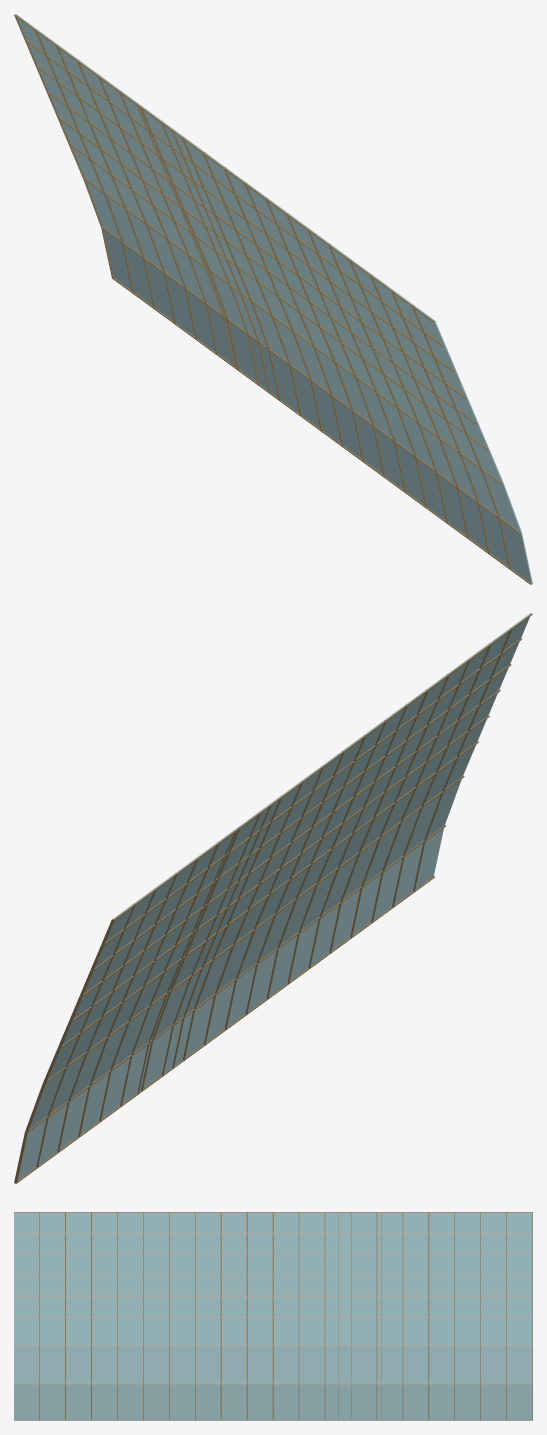
The model's file is G7_Completion_R003_Body_1_03.glb.
3 renders of one model, top to bottom at view 1: azimuth 30°, elevation 25°; view 2: azimuth 150°, elevation 25°; view 3: azimuth 270°, elevation 25°, orthographic. The views are drawn at different scales.
Parts seen in each view (by area): view 1: Body_1_03_G7C3_glass_solid_skin, Body_1_03_G7C3_metal_solid_frame; view 2: Body_1_03_G7C3_glass_solid_skin, Body_1_03_G7C3_metal_solid_frame; view 3: Body_1_03_G7C3_glass_solid_skin, Body_1_03_G7C3_shell_solid_skin, Body_1_03_G7C3_metal_solid_skin, Body_1_03_G7C3_metal_solid_frame.
Part boxes in pixels (bbox=[...]): Body_1_03_G7C3_glass_solid_skin: bbox=[16, 14, 532, 583]; Body_1_03_G7C3_metal_solid_frame: bbox=[14, 14, 531, 584]; Body_1_03_G7C3_glass_solid_skin: bbox=[17, 613, 530, 1180]; Body_1_03_G7C3_metal_solid_frame: bbox=[15, 613, 532, 1183]; Body_1_03_G7C3_glass_solid_skin: bbox=[14, 1212, 532, 1419]; Body_1_03_G7C3_shell_solid_skin: bbox=[14, 1233, 532, 1420]; Body_1_03_G7C3_metal_solid_skin: bbox=[39, 1212, 532, 1419]; Body_1_03_G7C3_metal_solid_frame: bbox=[14, 1212, 532, 1212].
Bounding box in the file's own units: 16.63 × 45.5 × 120.
Materials: 3 (2 with a texture image).
